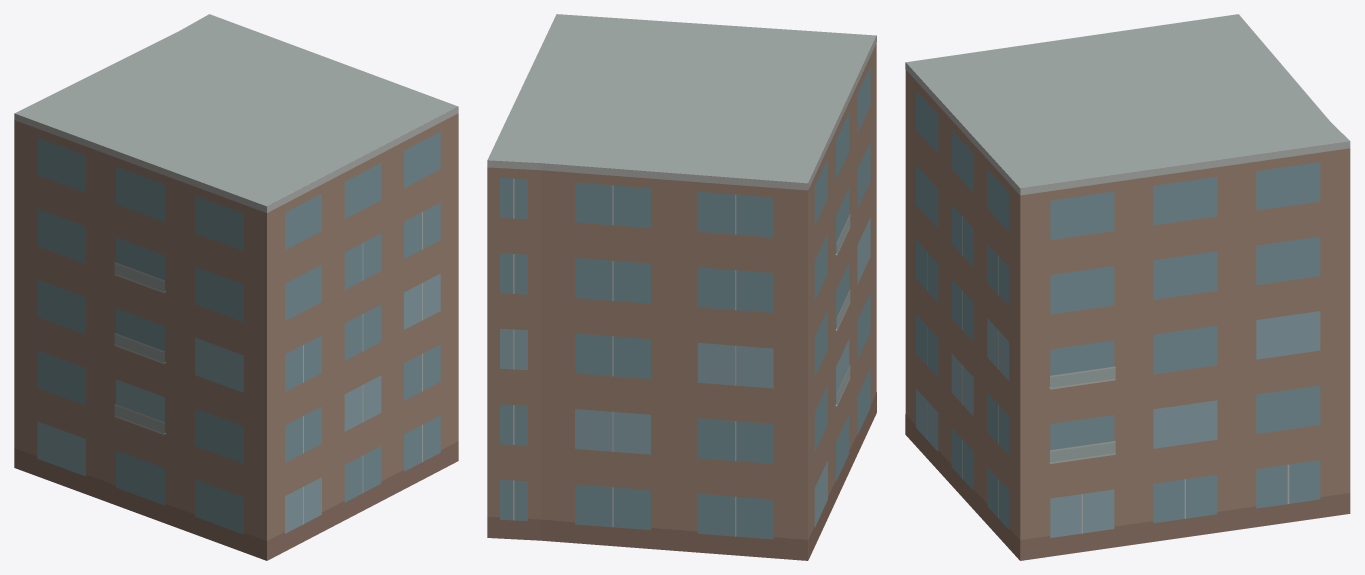
File: survey-upis-32966904.glb
3 views of the same model, side by side, from view 1: azimuth 30°, elevation 25°; view 2: azimuth 150°, elevation 25°; view 3: azimuth 270°, elevation 25° (orthographic). The views are drawn at different scales.
Parts seen in each view (by area): view 1: survey-upis-32966904.tmp; view 2: survey-upis-32966904.tmp; view 3: survey-upis-32966904.tmp.
Boxes of the visible parts, box(x1,y1,x2,y2) form: survey-upis-32966904.tmp: box(14, 14, 458, 560); survey-upis-32966904.tmp: box(487, 14, 876, 560); survey-upis-32966904.tmp: box(905, 14, 1350, 560).
Size of the model in its own units: 13.07 by 13 by 14.08.
